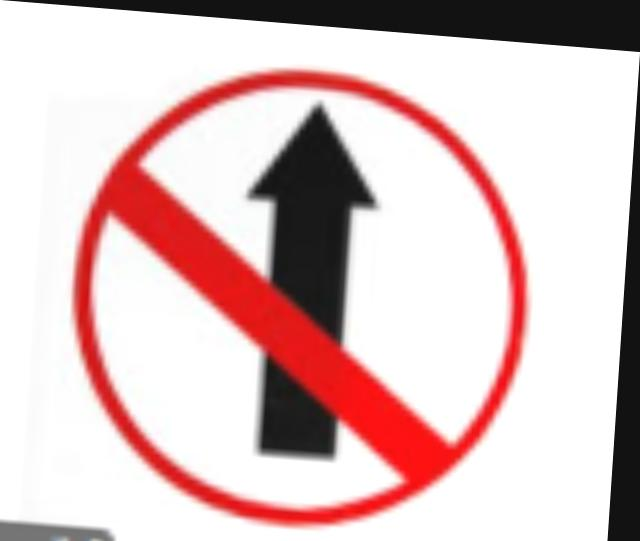not_go_straight: (70, 50, 558, 541)
